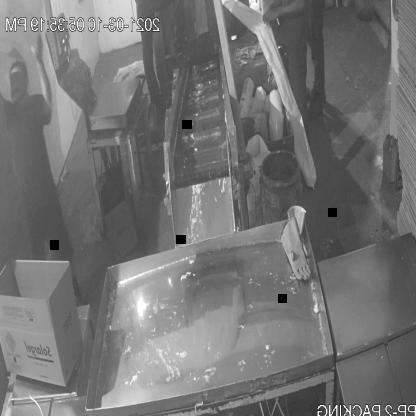no_glove: (27, 26, 54, 128), (259, 0, 307, 32)
